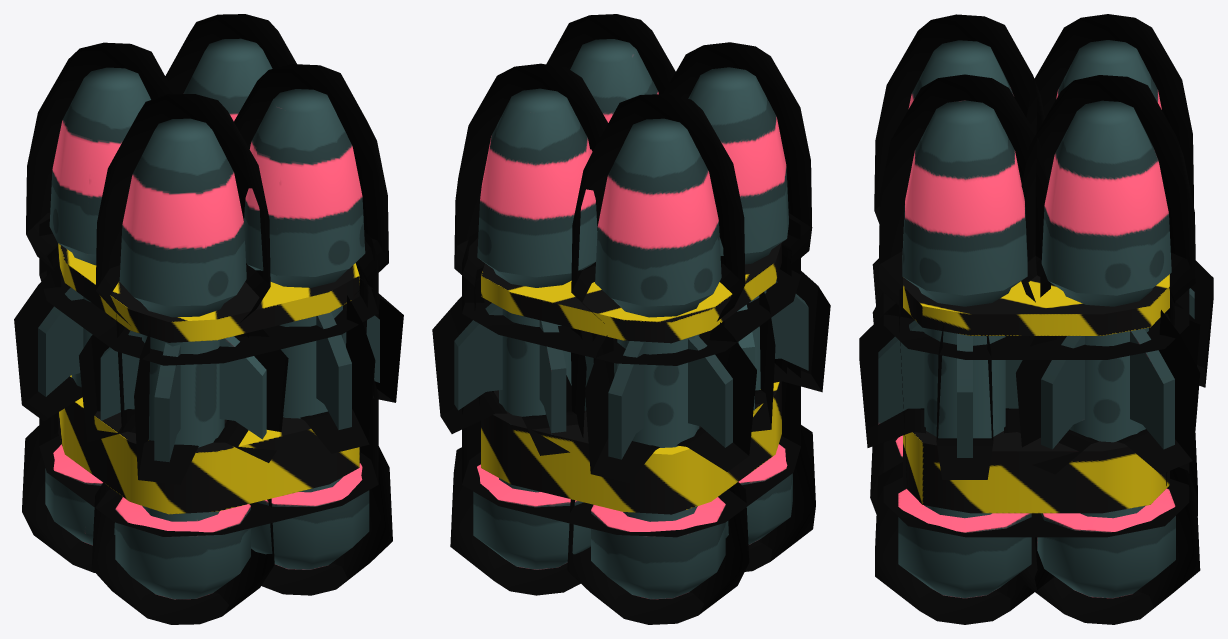
Rendered from homing_ammo.fbx.
3 renders of one model, left to right at view 1: azimuth 30°, elevation 25°; view 2: azimuth 150°, elevation 25°; view 3: azimuth 270°, elevation 25°, orthographic. The views are drawn at different scales.
Visible parts, largest first — view 1: pCylinder16 (×2); view 2: pCylinder16 (×2); view 3: pCylinder16 (×2).
Part boxes in pixels (left/top/right/bottom): pCylinder16 (×2): left=14, top=14, right=403, bottom=624; pCylinder16 (×2): left=432, top=14, right=830, bottom=624; pCylinder16 (×2): left=859, top=14, right=1213, bottom=624.
Bounding box in the file's own units: 5.89 × 9.5 × 5.89.
